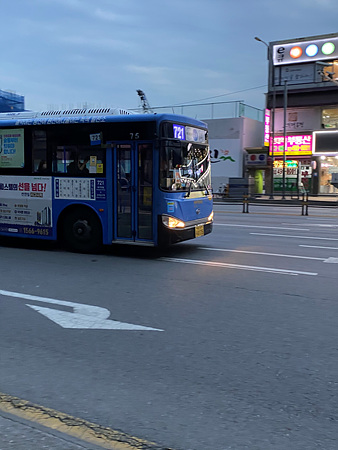entrance: (109, 138, 159, 247)
